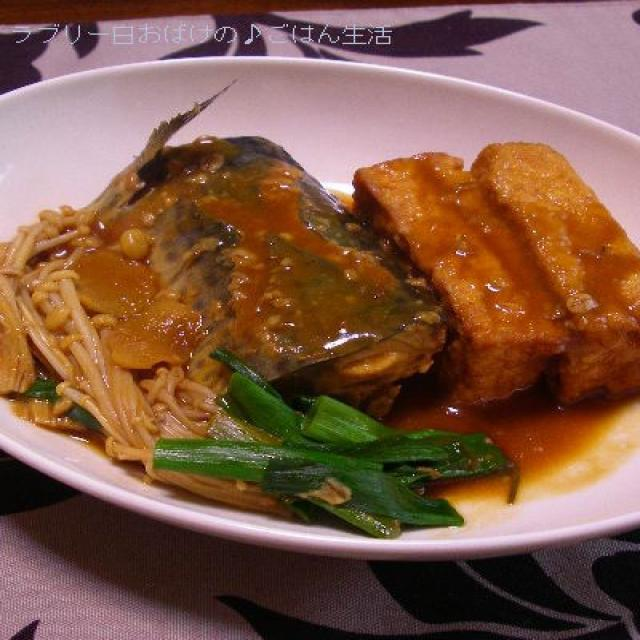熟制海鲜: (47, 87, 518, 561)
